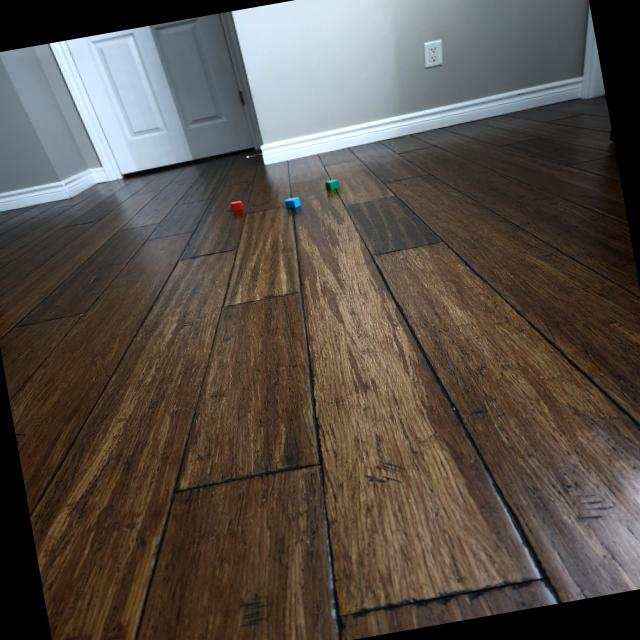bluecube: (284, 196, 301, 209)
green cube: (324, 178, 340, 190)
red cube: (231, 200, 243, 210)
